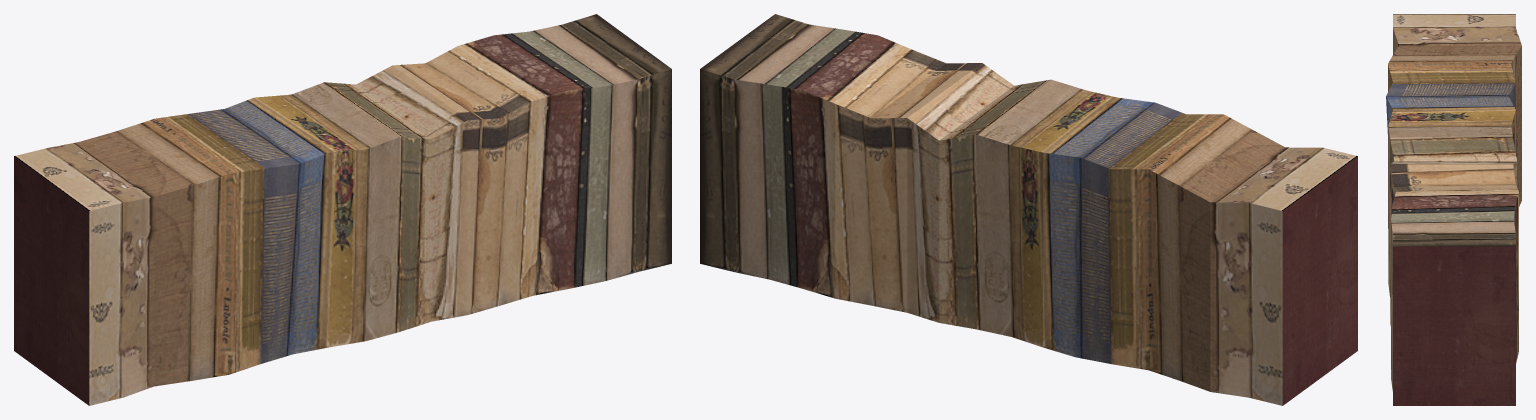
Rendered from book_pile.fbx.
3 views of the same model, side by side, from view 1: azimuth 30°, elevation 25°; view 2: azimuth 150°, elevation 25°; view 3: azimuth 270°, elevation 25° (orthographic). The views are drawn at different scales.
Visible parts, largest first — view 1: book_pile; view 2: book_pile; view 3: book_pile.
Part boxes in pixels (left/top/right/bottom): book_pile: left=14, top=14, right=671, bottom=405; book_pile: left=700, top=14, right=1357, bottom=405; book_pile: left=1386, top=14, right=1521, bottom=405.
Size of the model in its own units: 1.37 by 0.4525 by 0.339.
